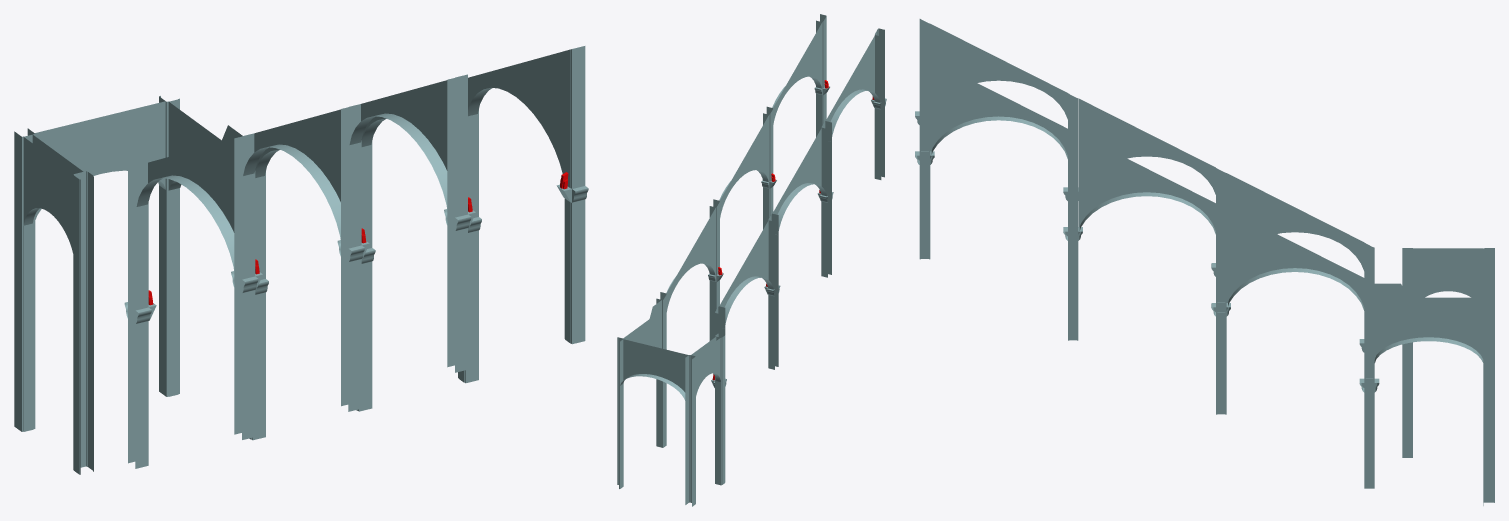
File: FinalMap_Stairs_Deco.FBX
3 renders of one model, left to right at view 1: azimuth 30°, elevation 25°; view 2: azimuth 150°, elevation 25°; view 3: azimuth 270°, elevation 25°, orthographic. The views are drawn at different scales.
Parts seen in each view (by area): view 1: FinalMap_Stairs_Deco; view 2: FinalMap_Stairs_Deco; view 3: FinalMap_Stairs_Deco.
Boxes of the visible parts, box(x1,y1,x2,y2) form: FinalMap_Stairs_Deco: box(14, 46, 588, 474); FinalMap_Stairs_Deco: box(617, 14, 886, 506); FinalMap_Stairs_Deco: box(915, 19, 1494, 505).
Bounding box in the file's own units: 223 × 870 × 1018.
